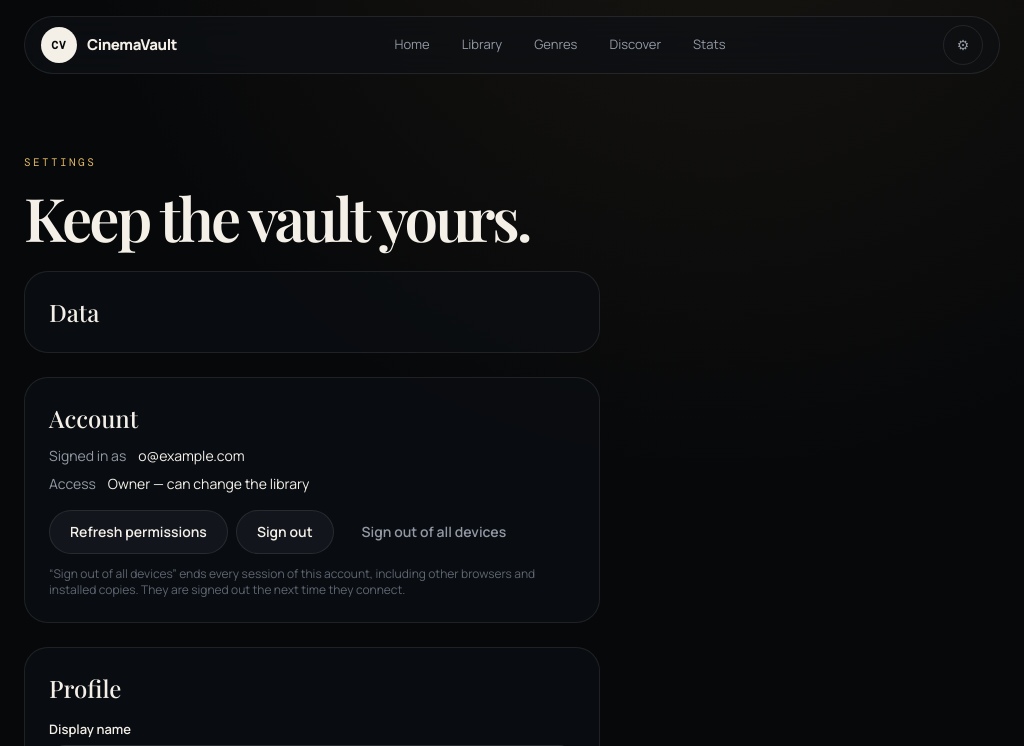
Scenario: role refresh during a live session › Settings has a button that re-reads the role on demand
Expected: the text "Owner — can change the library" is shown, [108,474,309,494]
Click the button "Refresh permissions". click: (138,532)
box: [49,510,228,554]
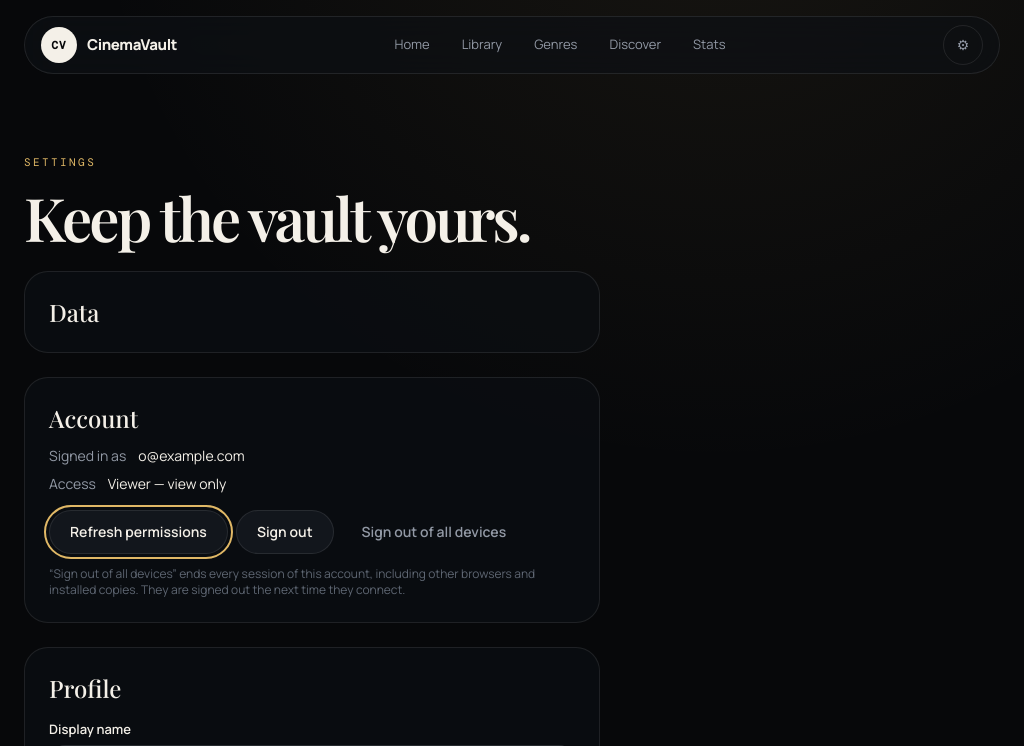
Expected: the text "Viewer — view only" is shown, [108,474,226,494]
